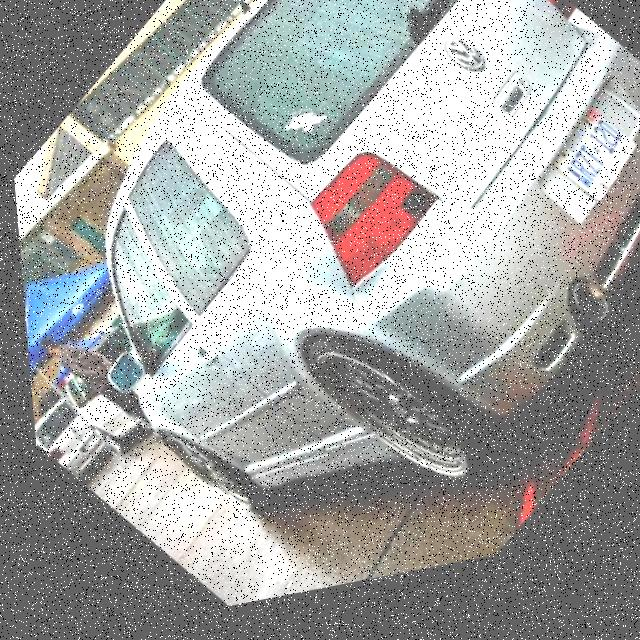license_plate: (539, 121, 640, 234)
